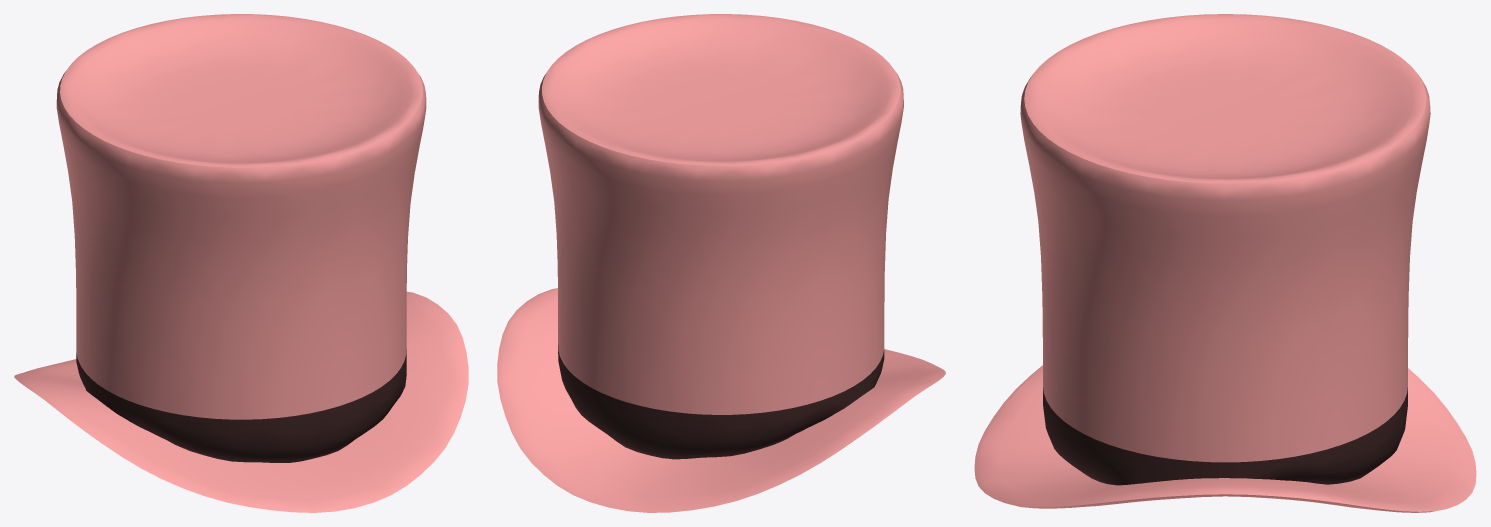
Rendered from Top Hat.gltf.
3 views of the same model, side by side, from view 1: azimuth 30°, elevation 25°; view 2: azimuth 150°, elevation 25°; view 3: azimuth 270°, elevation 25° (orthographic). The views are drawn at different scales.
Parts seen in each view (by area): view 1: Cylinder-Mat (×2), Cylinder.1; view 2: Cylinder-Mat (×2), Cylinder.1; view 3: Cylinder-Mat (×2), Cylinder.1.
Boxes of the visible parts, left/top/right/bottom form: Cylinder-Mat (×2): left=56, top=14, right=426, bottom=462; Cylinder.1: left=14, top=291, right=468, bottom=512; Cylinder-Mat (×2): left=538, top=14, right=903, bottom=459; Cylinder.1: left=497, top=288, right=945, bottom=512; Cylinder-Mat (×2): left=1020, top=14, right=1430, bottom=485; Cylinder.1: left=974, top=365, right=1476, bottom=512.
Bounding box in the file's own units: 129 × 108 × 129.
